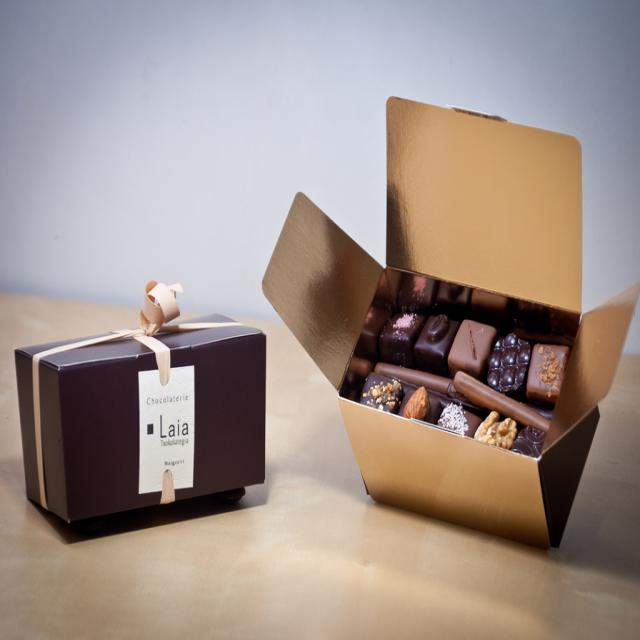Box: (262, 96, 639, 550), (14, 314, 266, 524)
